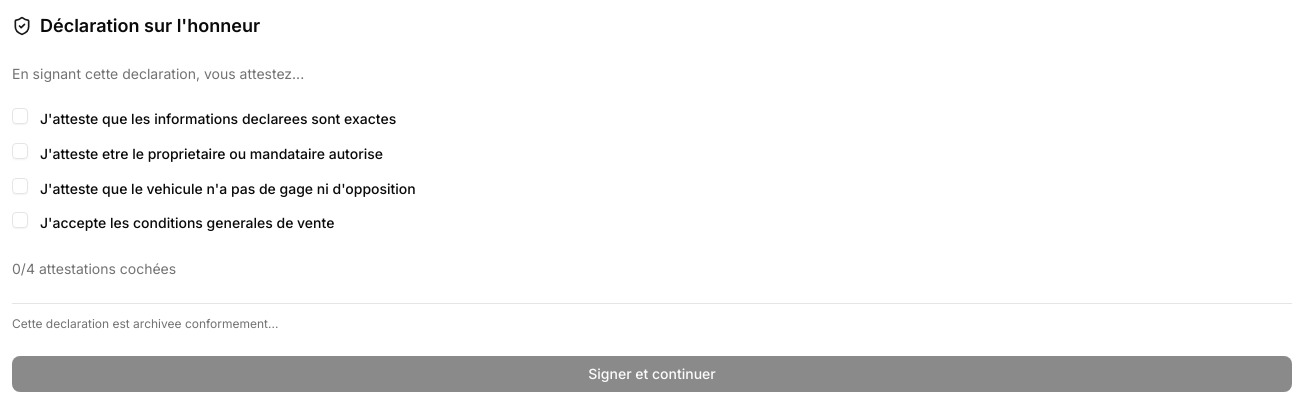
DeclarationForm › should enable submit button when all checked
Click the checkbox with test id "declaration-checkbox-0": click(20, 116) x1=12 y1=108 x2=28 y2=124
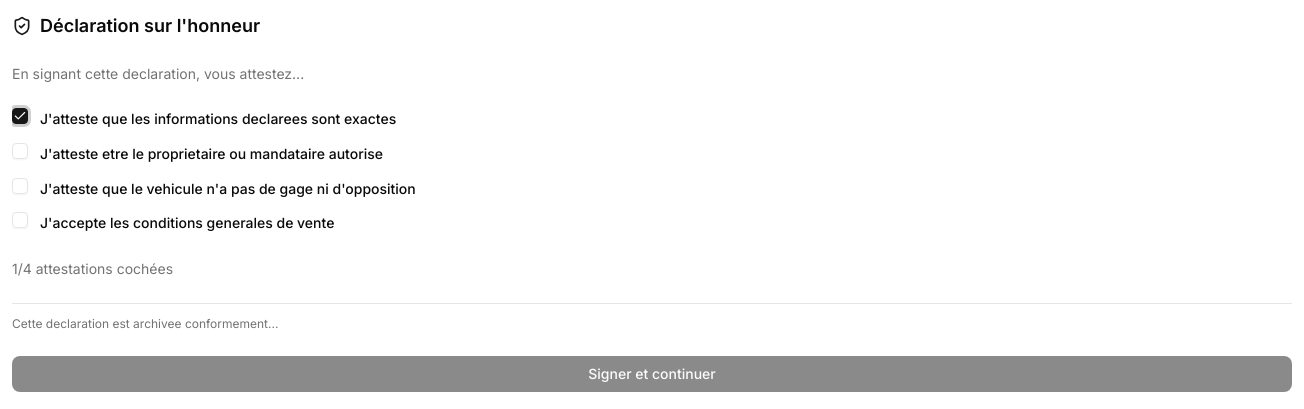
Click the checkbox with test id "declaration-checkbox-1": click(20, 151) x1=12 y1=143 x2=28 y2=159
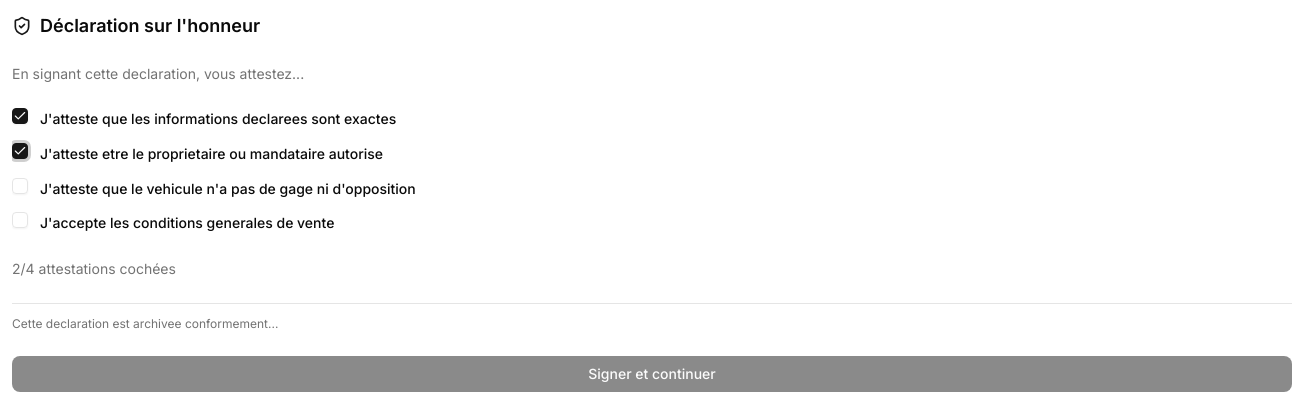
Click the 3rd checkbox: click(20, 186) x1=12 y1=178 x2=28 y2=194
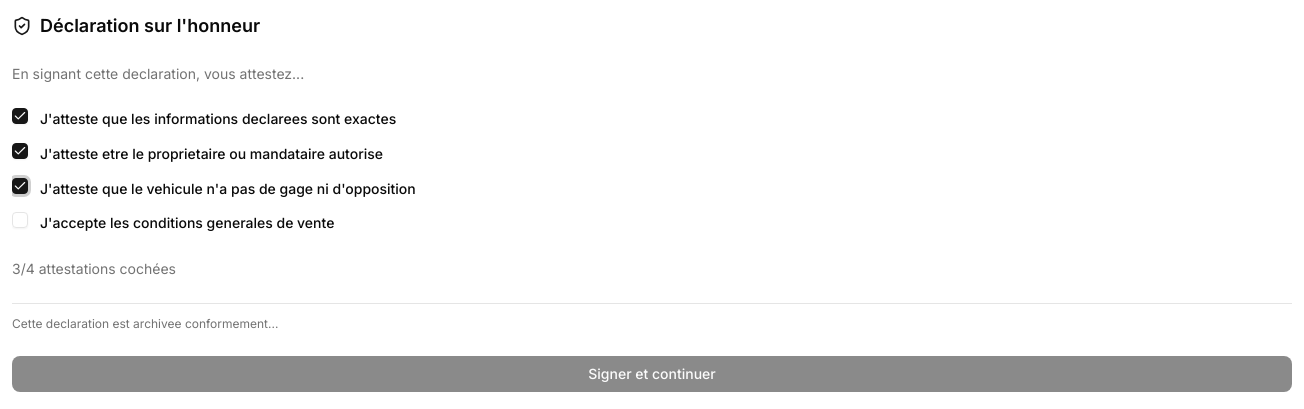
Click the 4th checkbox: click(20, 220) x1=12 y1=212 x2=28 y2=228
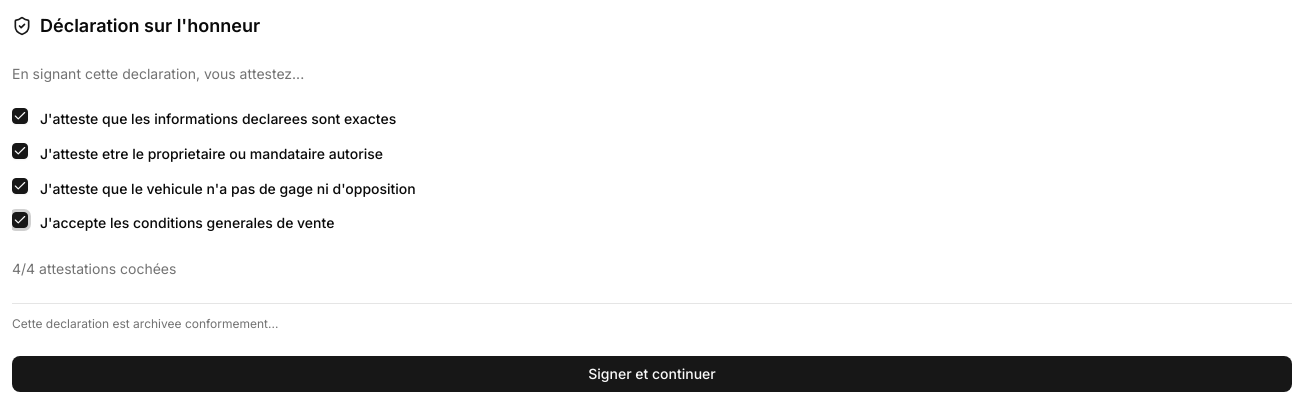
Now the button with test id "declaration-submit-btn" is enabled, box x1=12 y1=356 x2=1292 y2=392
